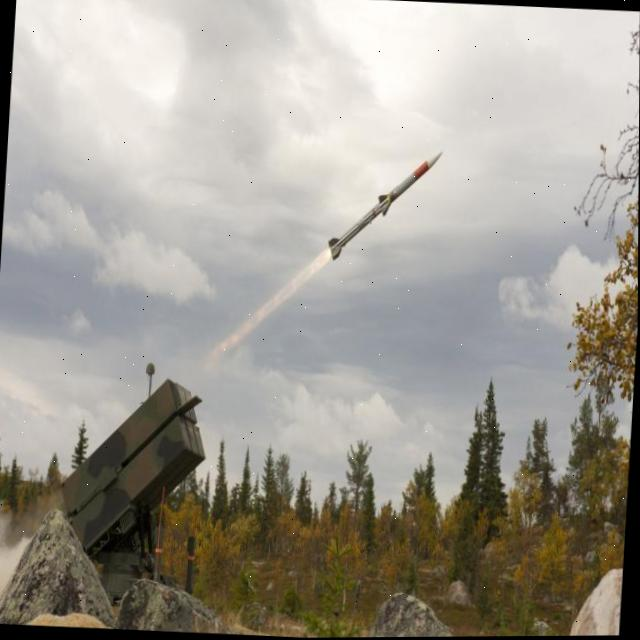missile: (320, 134, 453, 267)
